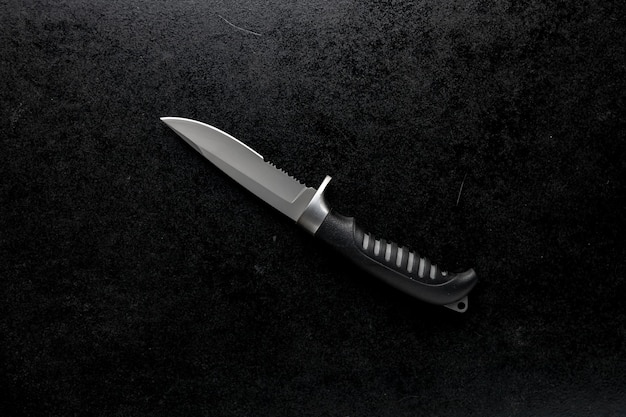knife: (158, 116, 475, 318)
